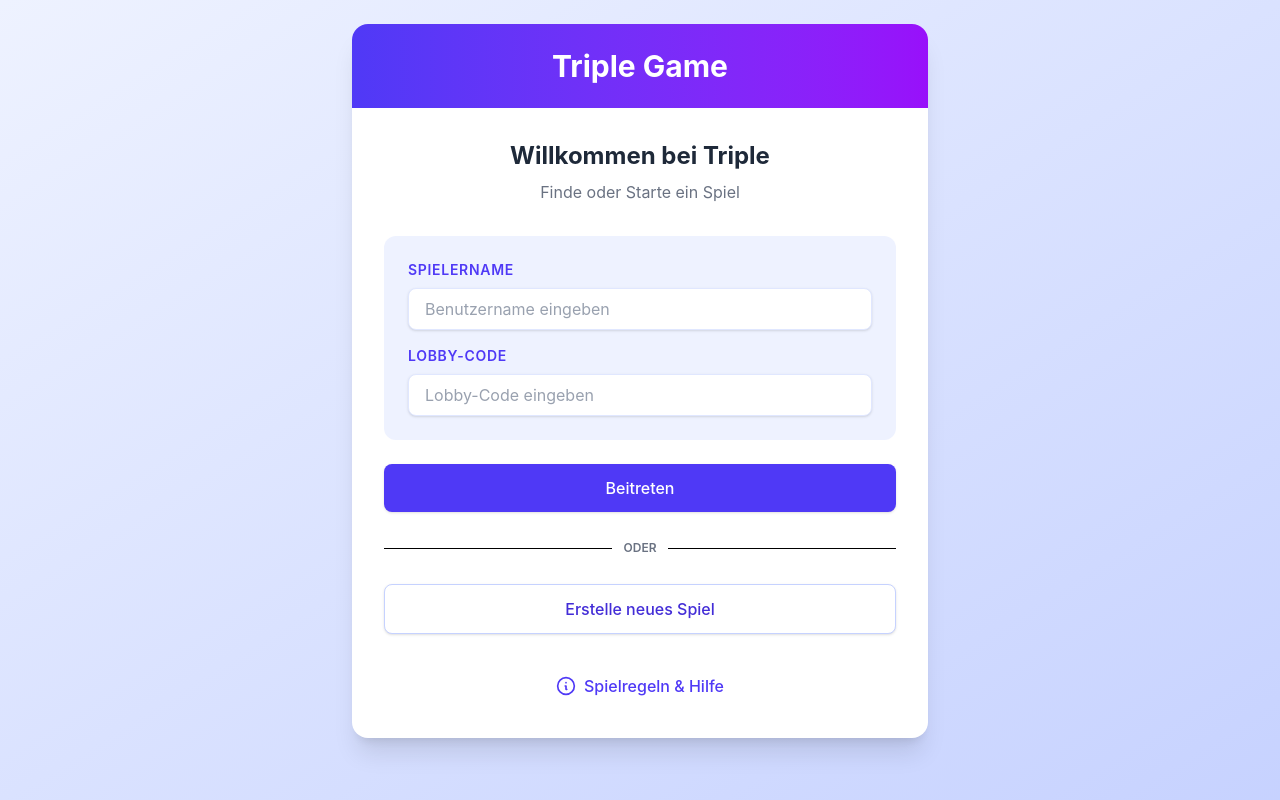
Scenario: App Component › transitions to lobby view when joining a game
In the field named "username": (640, 309) [408,288,872,330], type "testUser"
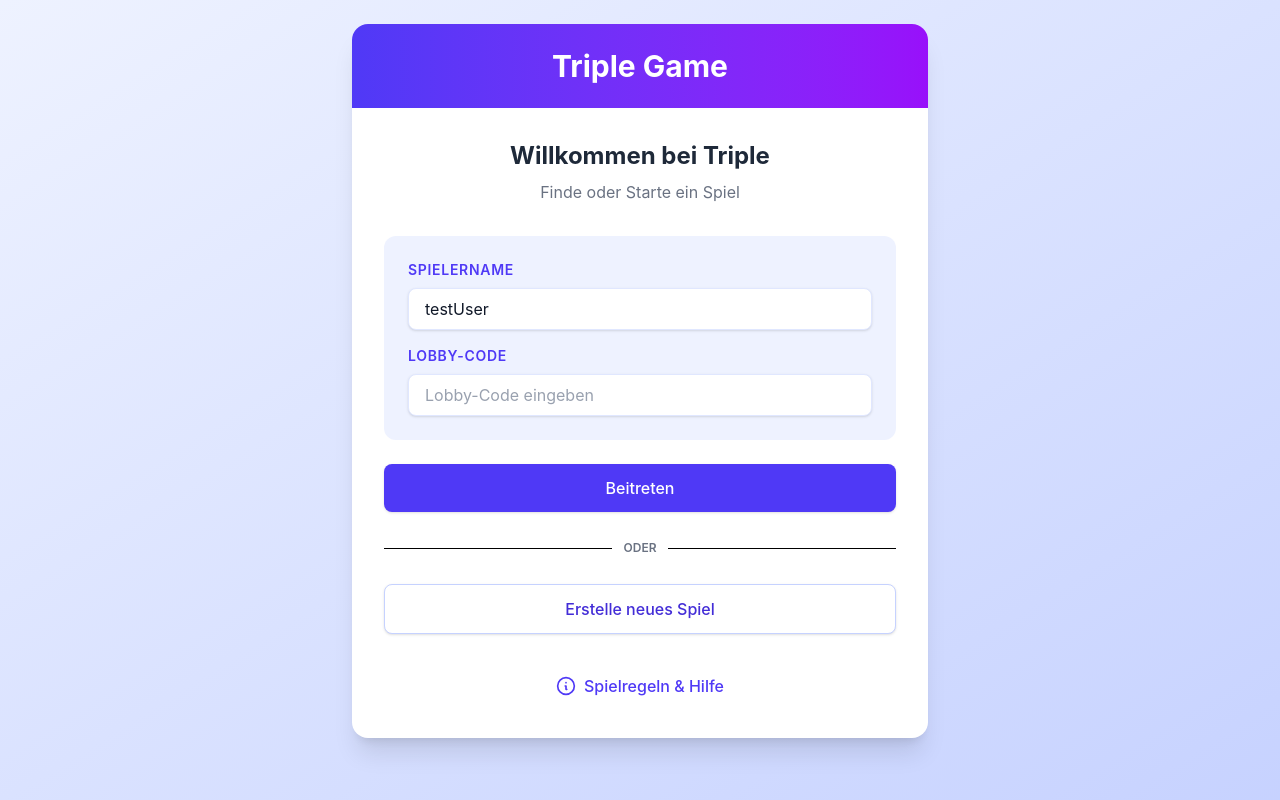
In the field named "lobby code": (640, 395) [408,374,872,416], type "TEST123"
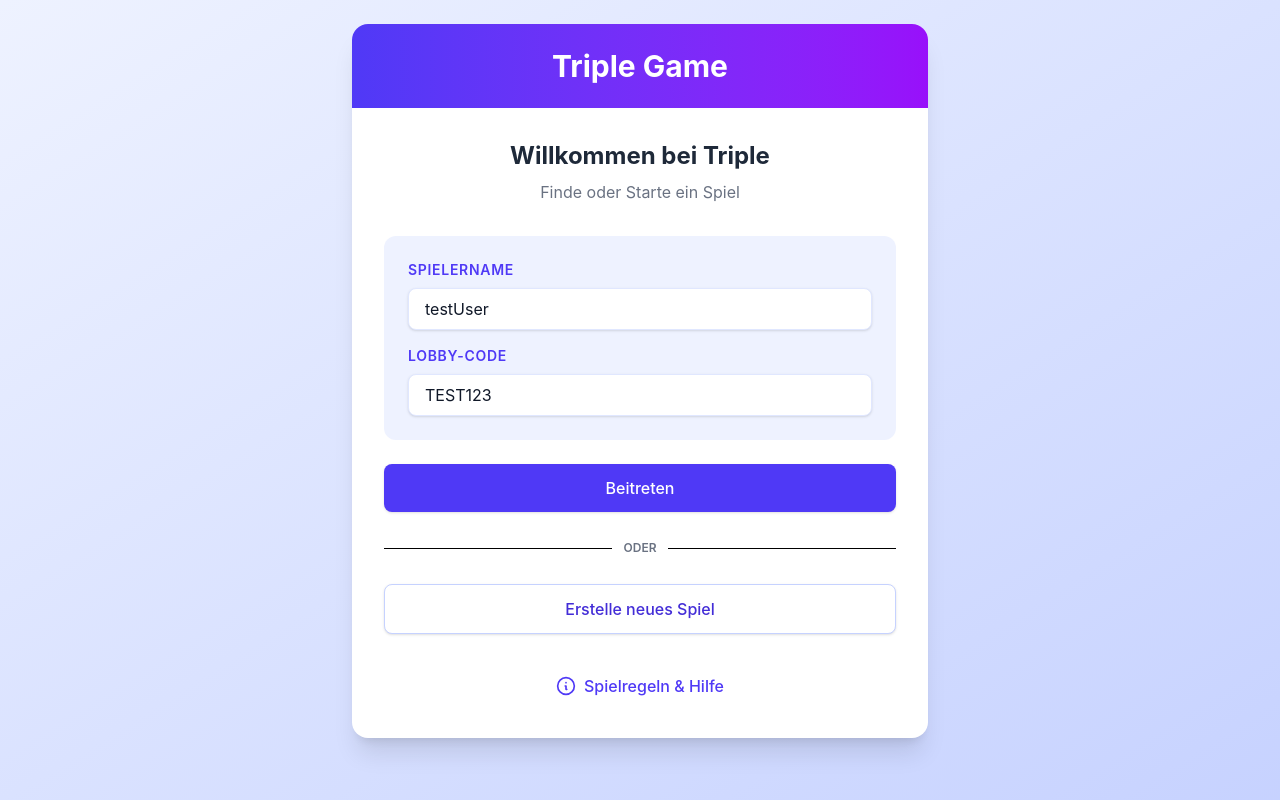
// Submit the form
Click the button with test id "join-game-button": (640, 488) [384,464,896,512]
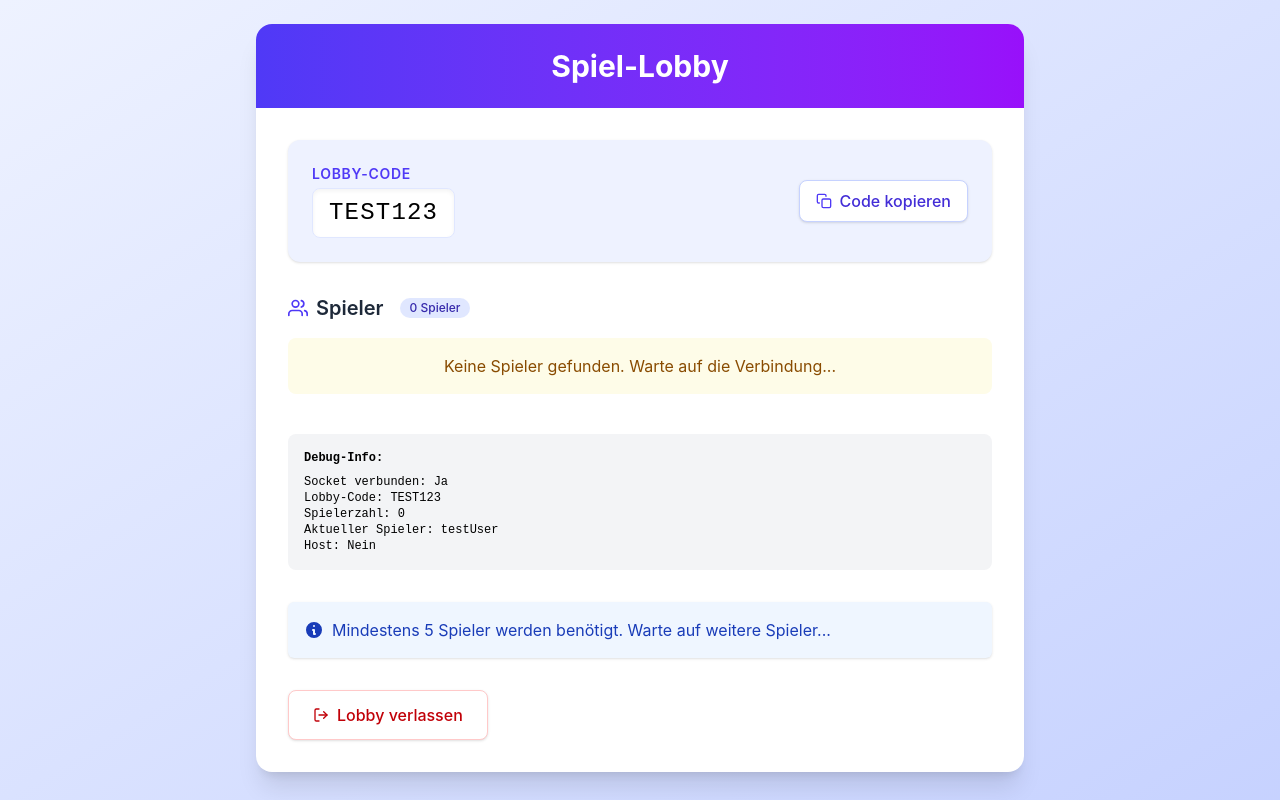
Now the element with test id "game-lobby" is shown
